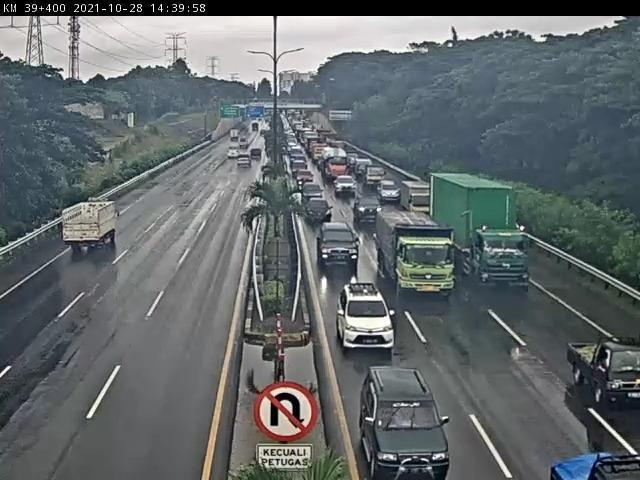car: (362, 367, 453, 480), (569, 341, 640, 402), (337, 281, 397, 351), (318, 221, 357, 263), (355, 193, 388, 221), (307, 198, 331, 224), (363, 163, 388, 187), (377, 181, 399, 201), (301, 182, 323, 202), (336, 176, 355, 195)
truck: (431, 176, 532, 291), (373, 209, 450, 291), (64, 199, 123, 251), (403, 180, 436, 212)
